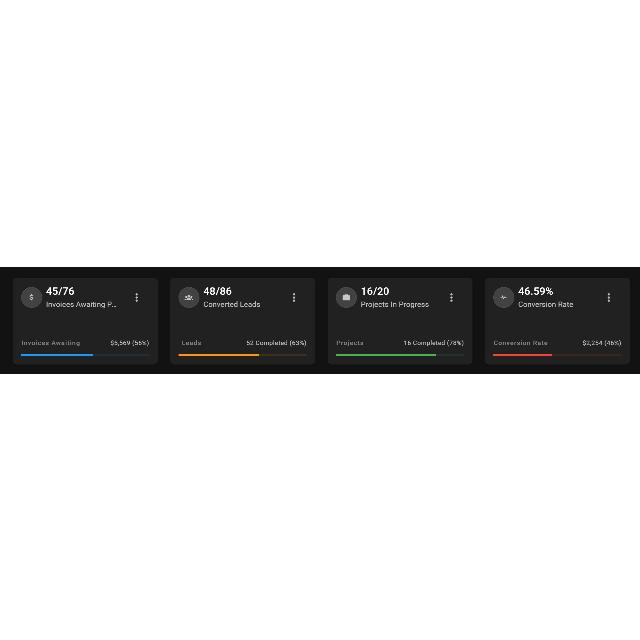QLabel: (45, 300, 117, 308), (360, 300, 430, 308), (19, 338, 82, 346), (202, 300, 264, 308), (402, 338, 463, 346), (517, 300, 577, 308), (247, 338, 307, 346), (492, 339, 550, 345), (582, 338, 622, 346), (111, 338, 149, 346), (46, 285, 74, 295), (518, 286, 552, 294), (360, 286, 390, 294), (204, 286, 232, 294), (335, 339, 365, 345), (180, 340, 202, 346)
VCard: (326, 276, 474, 366), (168, 276, 316, 366), (484, 275, 632, 365), (12, 276, 158, 366)
VIcon: (292, 292, 296, 302), (136, 292, 138, 302), (608, 292, 610, 302), (451, 292, 453, 302)
VImg: (22, 286, 42, 308), (494, 286, 514, 308), (178, 286, 200, 306), (336, 286, 356, 308)
VProgressLinear: (20, 353, 150, 357), (334, 354, 466, 356), (176, 354, 308, 356), (491, 354, 623, 356)
